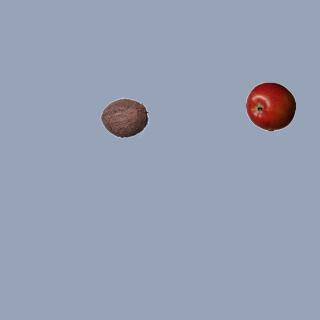Apple Braeburn: (245, 81, 295, 131)
Cocos: (99, 92, 149, 142)
